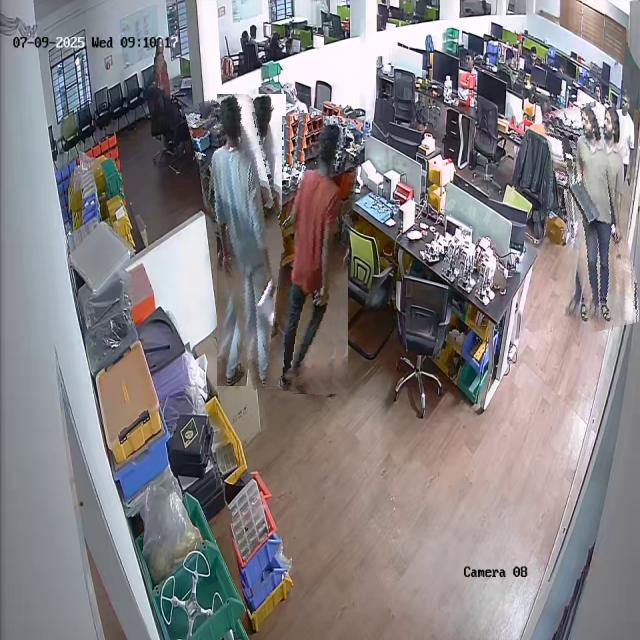person: (200, 92, 303, 388), (274, 115, 356, 395), (554, 103, 634, 330)
